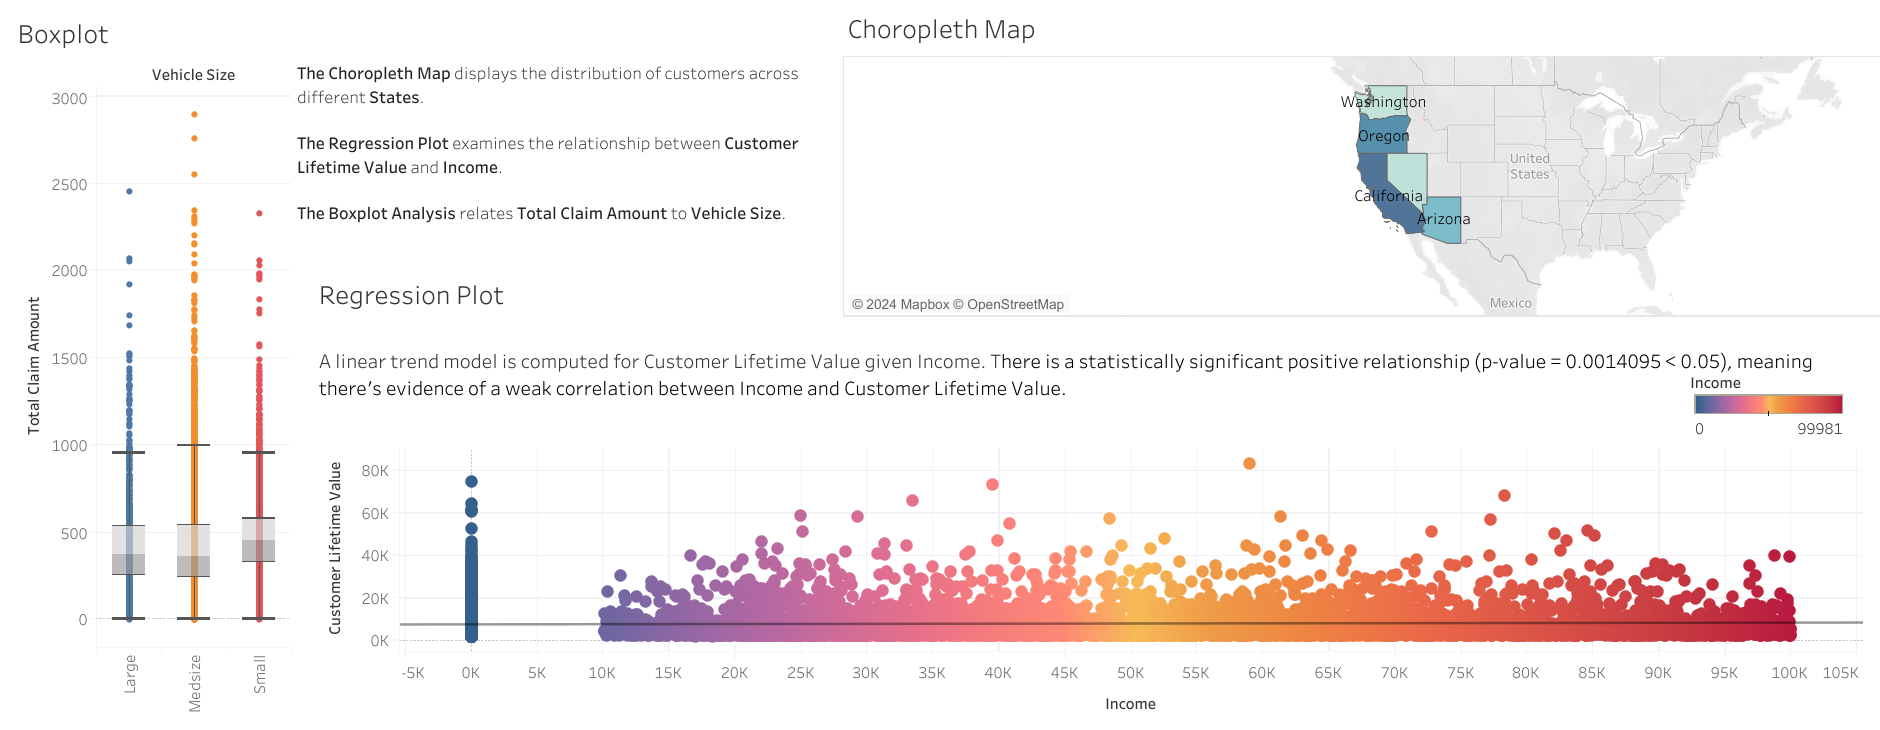

What the dashboard file says about the page in this screenshot:
{"tool":"tableau","page":{"name":"Dashboard 2","canvas":[1000,1000],"units":"permille","ordinal":1},"visuals":[{"type":"worksheet","title":"Choropleth Map","mark":"Multipolygon","box":[447.8,3.6,552.8,430.3]},{"type":"worksheet","title":"Boxplot","mark":"Circle","rows":["Total Claim Amount"],"cols":["Vehicle Size"],"box":[6.6,10,147.9,977.5]},{"type":"text","box":[156.3,26.7,289.7,333.3]},{"type":"worksheet","title":"Regression Plot","mark":"Circle","rows":["Customer Lifetime Value"],"cols":["Income"],"box":[166.6,367,823.8,620.5]},{"type":"legend","title":"Regression Plot","param":"[federated.1xn7tx81syry7417q19s70x955jg].[none:Income:qk]","box":[898,499.4,84.5,109.9]}]}

Visuals, with their boxes on the dashboard's canvas, which has no fixed pixel size, in thousandths of its width and height (x1, y1, x2, y2). These are canvas units, not pixel positions in the 1880x730 screenshot, which may show the page scaled, cropped or inside an application window:
"Choropleth Map" worksheet (Multipolygon marks): <box>448,4,1001,434</box>
"Boxplot" worksheet (Circle marks): <box>7,10,154,988</box>
text: <box>156,27,446,360</box>
"Regression Plot" worksheet (Circle marks): <box>167,367,990,988</box>
"Regression Plot" legend: <box>898,499,982,609</box>
